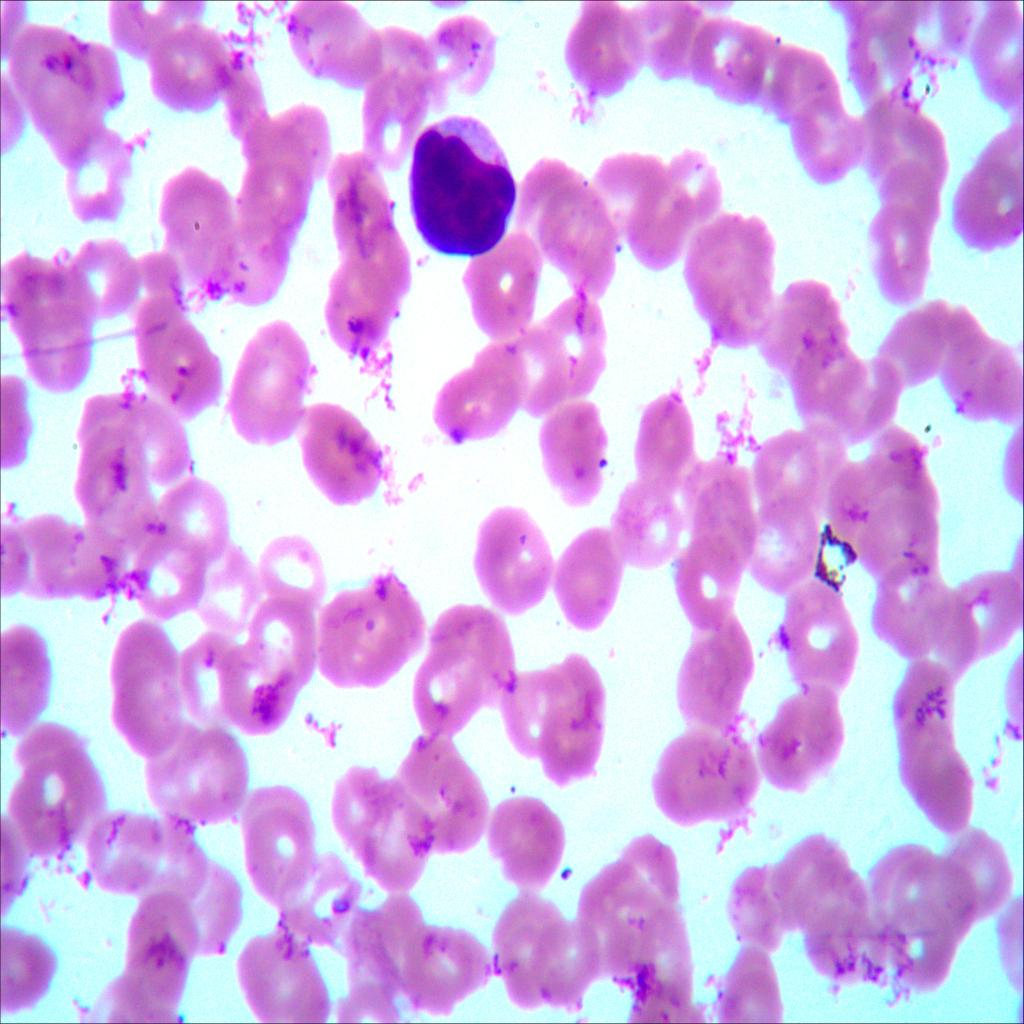Limfoblast: (400, 109, 520, 259)
